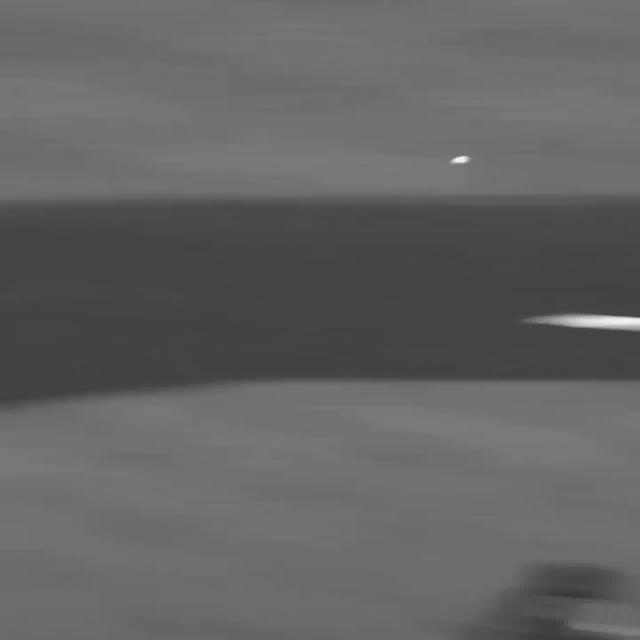base: (519, 312, 639, 332)
baseball: (448, 155, 471, 165)
